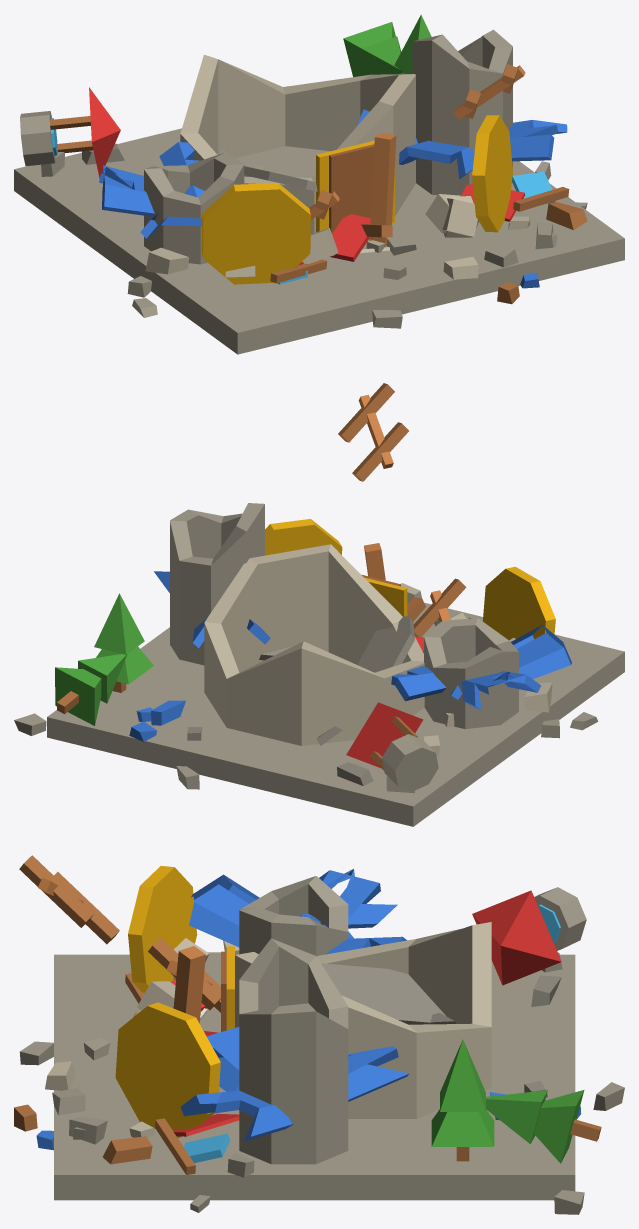
The model's file is defense_tower_t3_v3_dmg2.glb.
3 renders of one model, top to bottom at view 1: azimuth 30°, elevation 25°; view 2: azimuth 150°, elevation 25°; view 3: azimuth 270°, elevation 25°, orthographic. The views are drawn at different scales.
Visible parts, largest first — view 1: defense_tower_t3_v3_dmg2; view 2: defense_tower_t3_v3_dmg2; view 3: defense_tower_t3_v3_dmg2.
Part boxes in pixels (x1,y1,x2,y2): defense_tower_t3_v3_dmg2: [14, 14, 624, 354]; defense_tower_t3_v3_dmg2: [14, 383, 624, 826]; defense_tower_t3_v3_dmg2: [14, 855, 624, 1214].
Bounding box in the file's own units: 0.8775 × 0.4329 × 0.8789.
Materials: 1 (1 with a texture image).
